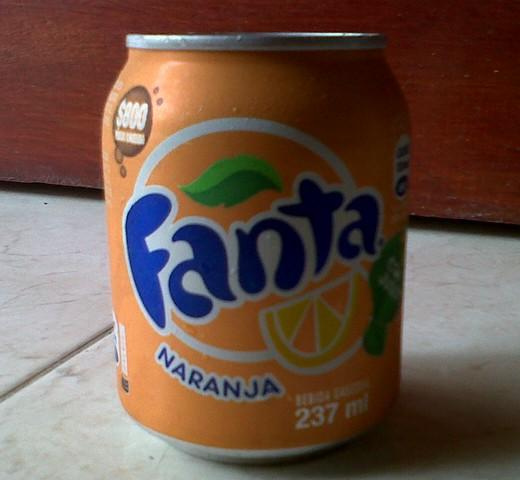metal: (102, 34, 411, 462)
